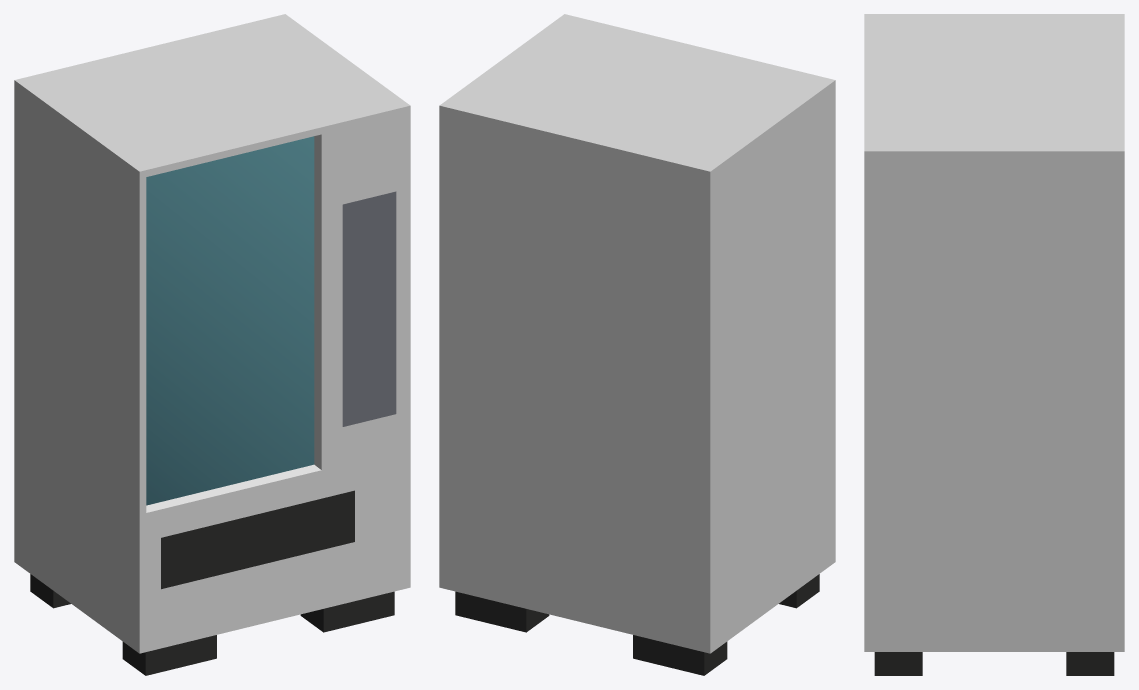
File: vendingMachineWhite.fbx
The picture shows the model from 3 angles, left to right: view 1: azimuth 30°, elevation 25°; view 2: azimuth 150°, elevation 25°; view 3: azimuth 270°, elevation 25°; orthographic projection. The views are drawn at different scales.
Visible parts, largest first — view 1: vendingMachineWhite; view 2: vendingMachineWhite; view 3: vendingMachineWhite.
Part boxes in pixels (left/top/right/bottom): vendingMachineWhite: left=14, top=14, right=410, bottom=675; vendingMachineWhite: left=439, top=14, right=835, bottom=675; vendingMachineWhite: left=864, top=14, right=1124, bottom=675.
Bounding box in the file's own units: 100 × 180 × 80.
1 material, 1 textured.
